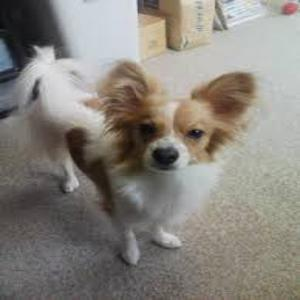yell: (15, 44, 257, 265)
